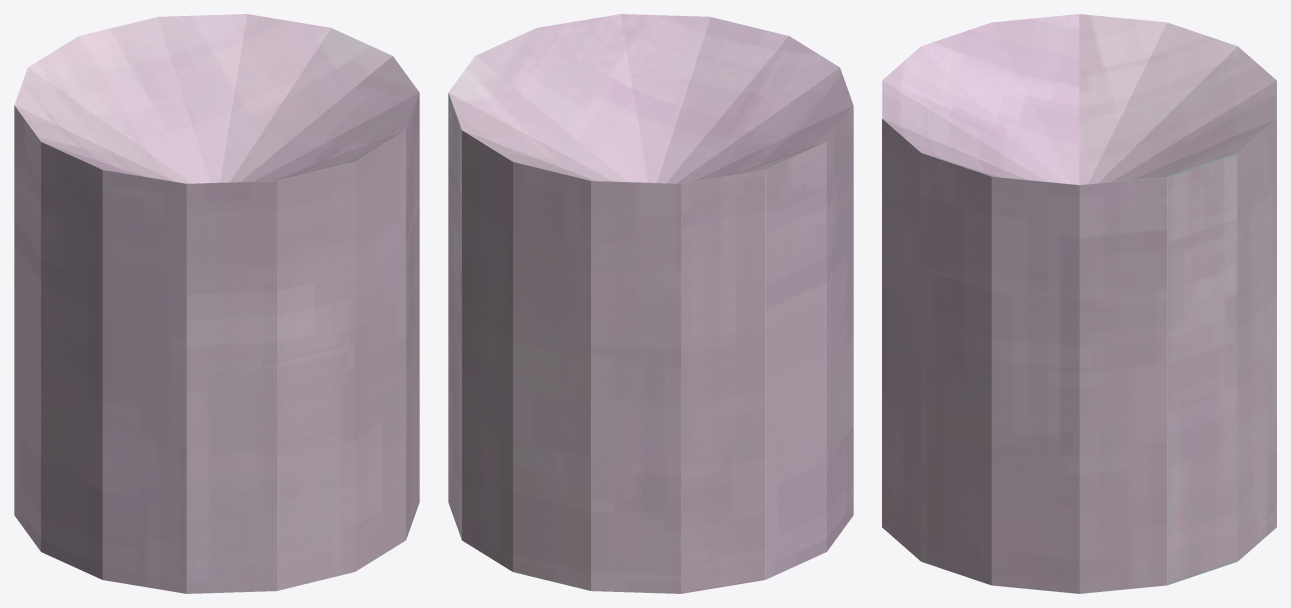
File: conteneur a pail.fbx
3 renders of one model, left to right at view 1: azimuth 30°, elevation 25°; view 2: azimuth 150°, elevation 25°; view 3: azimuth 270°, elevation 25°, orthographic.
Parts seen in each view (by area): view 1: cylinder; view 2: cylinder; view 3: cylinder.
Boxes of the visible parts, box(x1,y1,x2,y2) form: cylinder: box(14, 14, 419, 593); cylinder: box(448, 14, 853, 593); cylinder: box(882, 14, 1276, 593).
Size of the model in its own units: 44.88 by 50 by 43.75.
1 material, 1 textured.
